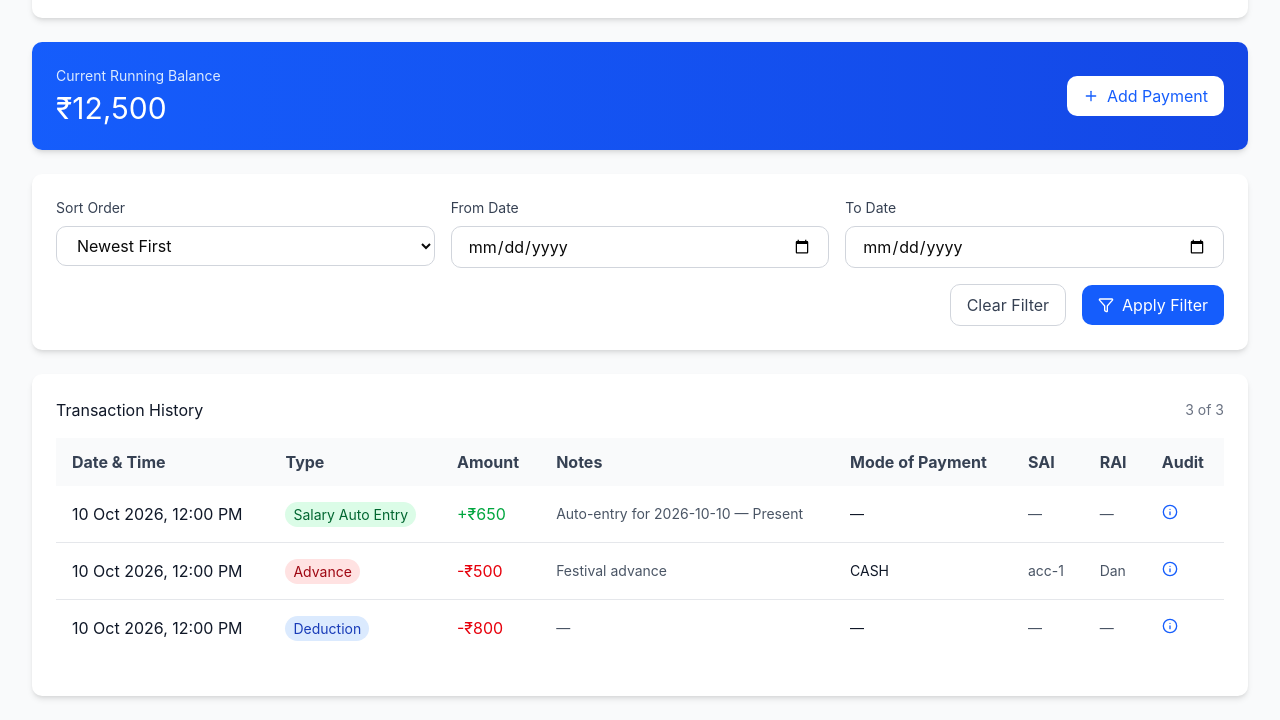
it: SalaryLedgerDetailScreen › the audit details › opens a window with the transaction's details, and closes it
The image size is (1280, 720).
(page scrolled)
Click the button titled "View Audit Details" in the row of "Festival advance" at (1170, 569), box [1162,561,1178,577]
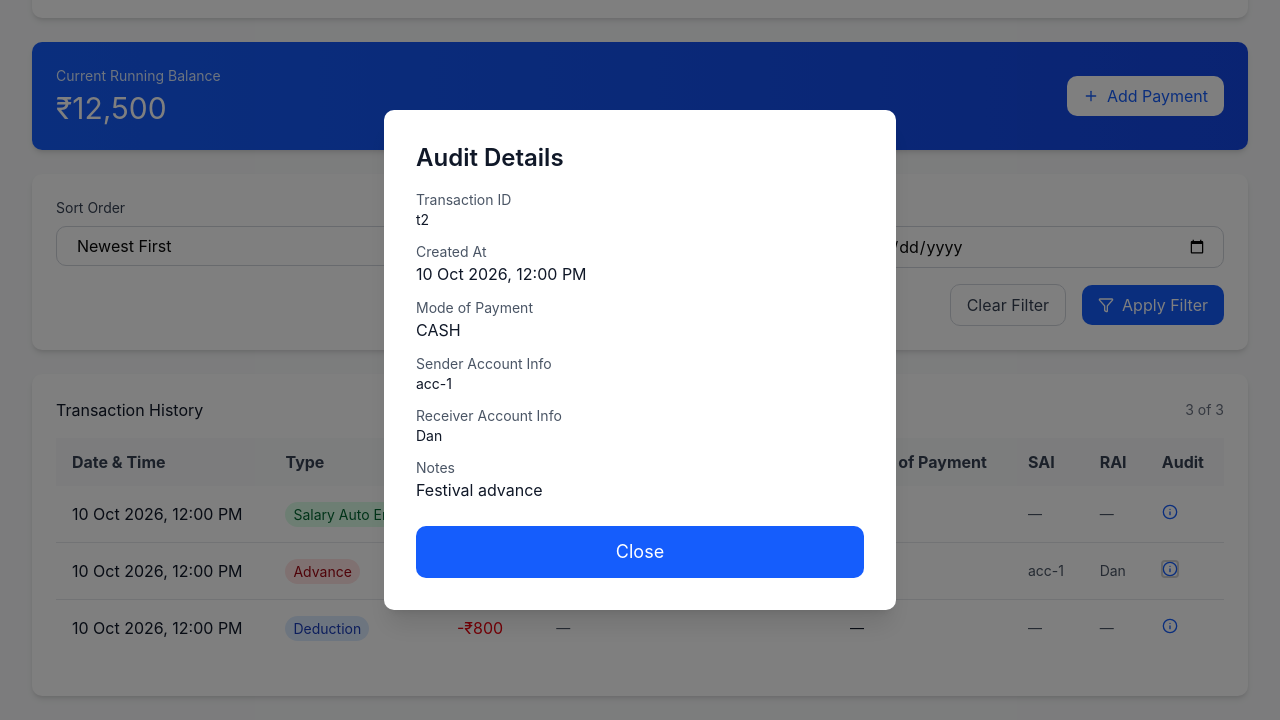
Expected: the heading "Audit Details" is shown, [416,143,564,172]
Expected: the text "t2" is shown, [416,211,429,228]
Expected: the text "CASH" is shown, [416,320,461,340]
Click the button "Close" at (640, 552), box [416,526,864,578]
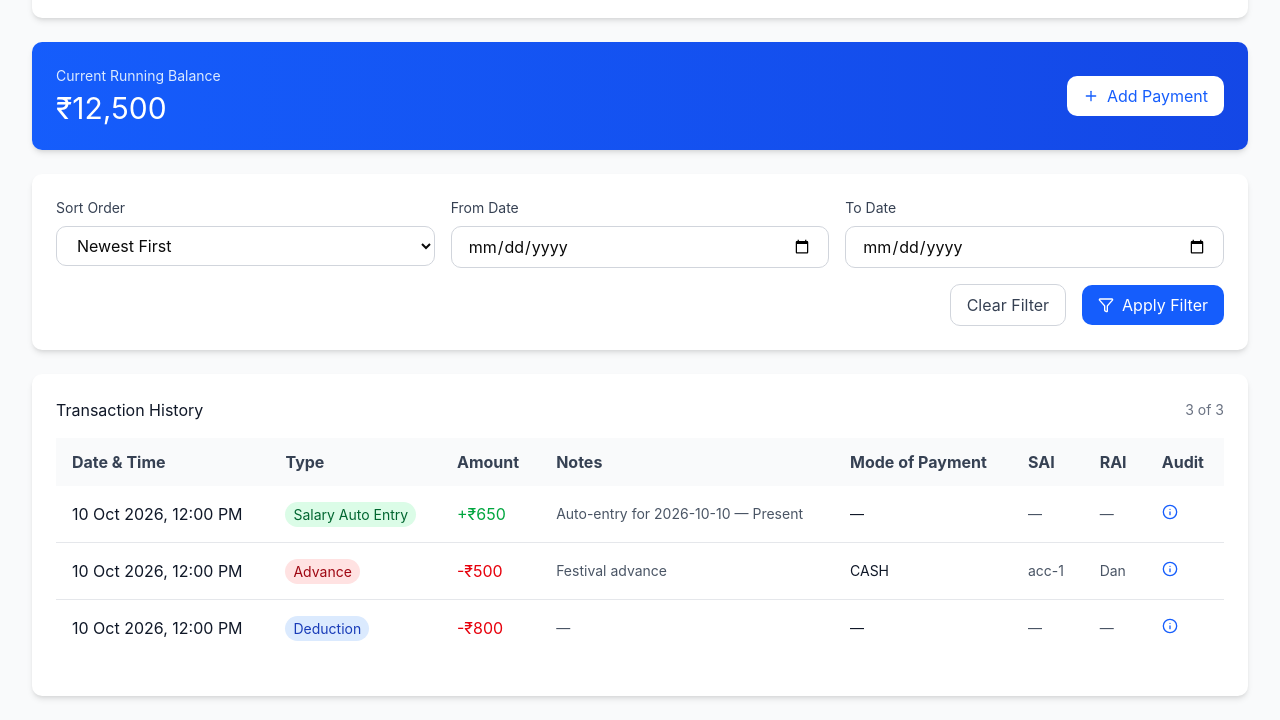
Expected: the heading "Audit Details" is gone
